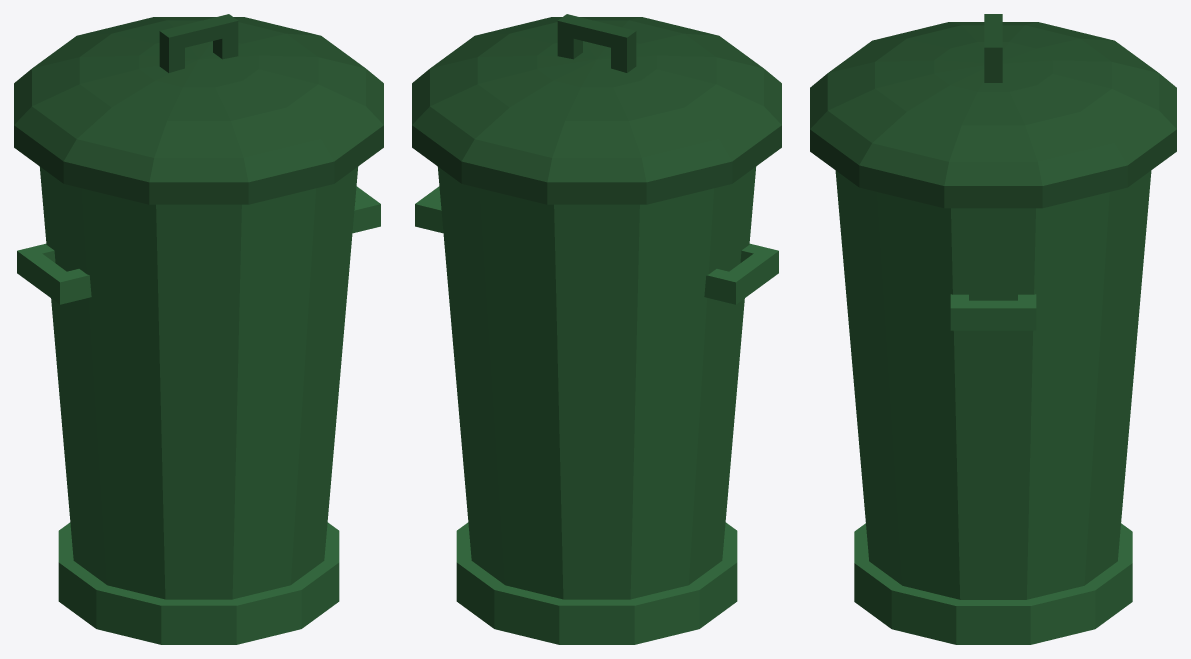
Rendered from prop_bin_metal.glb.
3 views of the same model, side by side, from view 1: azimuth 30°, elevation 25°; view 2: azimuth 150°, elevation 25°; view 3: azimuth 270°, elevation 25° (orthographic).
Visible parts, largest first — view 1: prop_bin_metal; view 2: prop_bin_metal; view 3: prop_bin_metal.
Part boxes in pixels (<box>): prop_bin_metal: <box>14,14,383,644</box>; prop_bin_metal: <box>412,14,781,644</box>; prop_bin_metal: <box>810,14,1176,644</box>.
Size of the model in its own units: 0.6 by 1 by 0.5989.
Materials: 1 (1 with a texture image).
